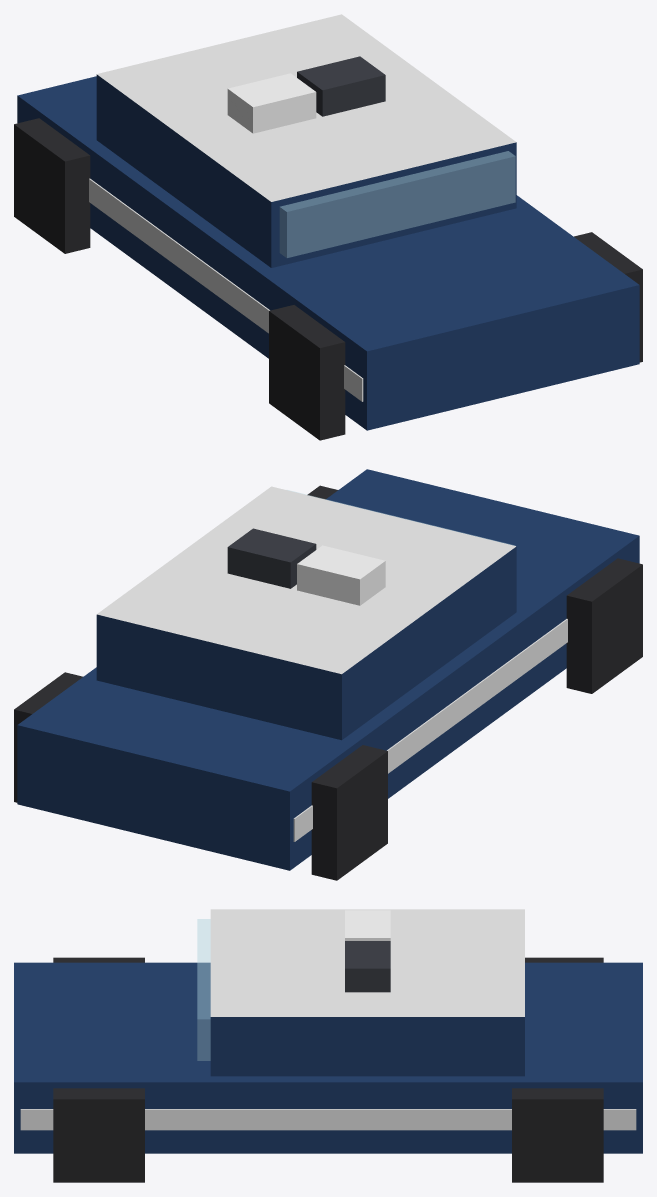
The model's file is prop_police_car.glb.
The picture shows the model from 3 angles, top to bottom: view 1: azimuth 30°, elevation 25°; view 2: azimuth 150°, elevation 25°; view 3: azimuth 270°, elevation 25°; orthographic projection. The views are drawn at different scales.
Parts seen in each view (by area): view 1: body, light_bar; view 2: body, light_bar; view 3: body, light_bar.
Part boxes in pixels (x1=…): body: x1=14, y1=14, x2=642, y2=440; light_bar: x1=227, y1=56, x2=385, y2=133; body: x1=14, y1=469, x2=642, y2=880; light_bar: x1=227, y1=528, x2=385, y2=605; body: x1=14, y1=909, x2=642, y2=1182; light_bar: x1=345, y1=910, x2=390, y2=992.
Size of the model in its own units: 0.512 by 0.29 by 0.96.
4 materials, 1 textured.
